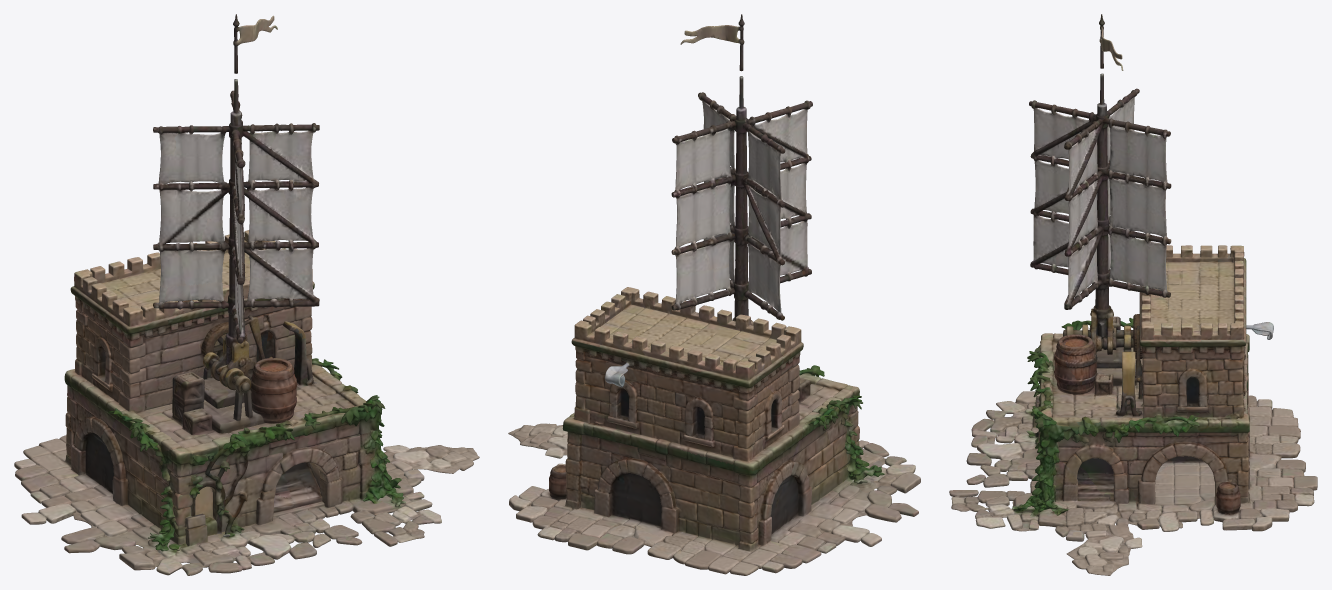
Rendered from siege-engine.glb.
3 views of the same model, side by side, from view 1: azimuth 30°, elevation 25°; view 2: azimuth 150°, elevation 25°; view 3: azimuth 270°, elevation 25° (orthographic). The views are drawn at different scales.
Visible parts, largest first — view 1: tripo_node_d8cd5fd3-acc8-41bb-97c8-f04f686a34ed; view 2: tripo_node_d8cd5fd3-acc8-41bb-97c8-f04f686a34ed; view 3: tripo_node_d8cd5fd3-acc8-41bb-97c8-f04f686a34ed.
Boxes of the visible parts, box(x1,y1,x2,y2) form: tripo_node_d8cd5fd3-acc8-41bb-97c8-f04f686a34ed: box(14, 14, 479, 575); tripo_node_d8cd5fd3-acc8-41bb-97c8-f04f686a34ed: box(508, 14, 920, 575); tripo_node_d8cd5fd3-acc8-41bb-97c8-f04f686a34ed: box(949, 14, 1317, 575).
Bounding box in the file's own units: 0.8803 × 1 × 0.7339.
Materials: 1 (1 with a texture image).
